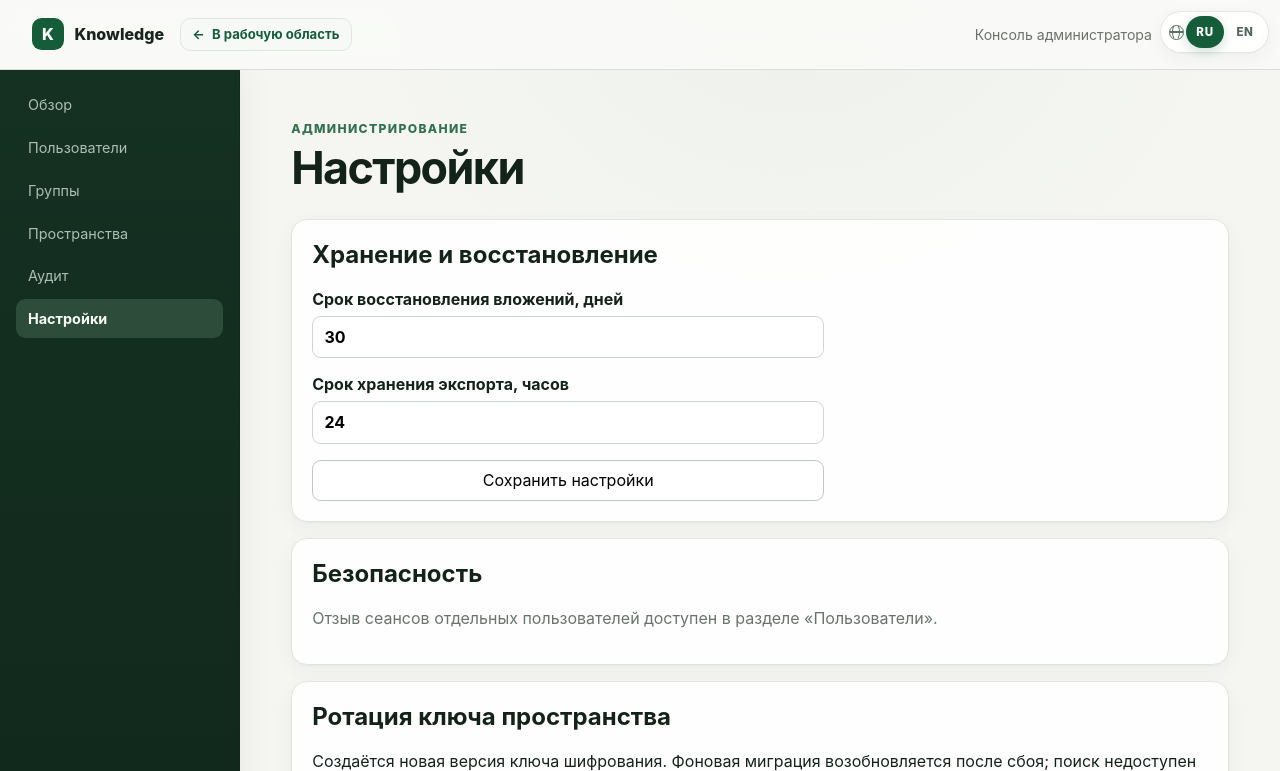
it: settings administration › validates limits, retains values after a safe Problem conflict, and sends typed settings
Replace the text in the number field labelled "Срок восстановления вложений, дней" with "0" at point(568, 337), box [312, 316, 824, 358]
Replace the text in the number field labelled "Срок хранения экспорта, часов" with "721" at point(568, 422), box [312, 401, 824, 444]
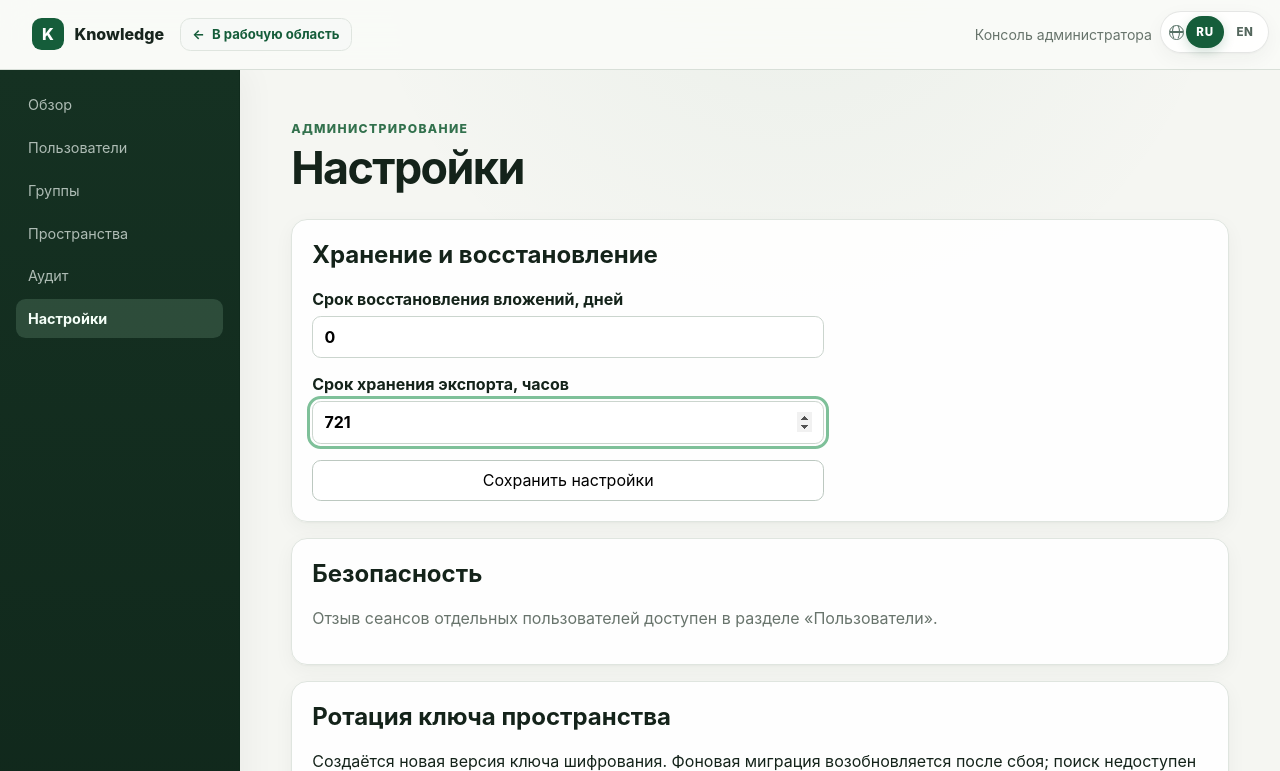
Click the button "Сохранить настройки".
click(568, 480)  # box [312, 460, 824, 501]
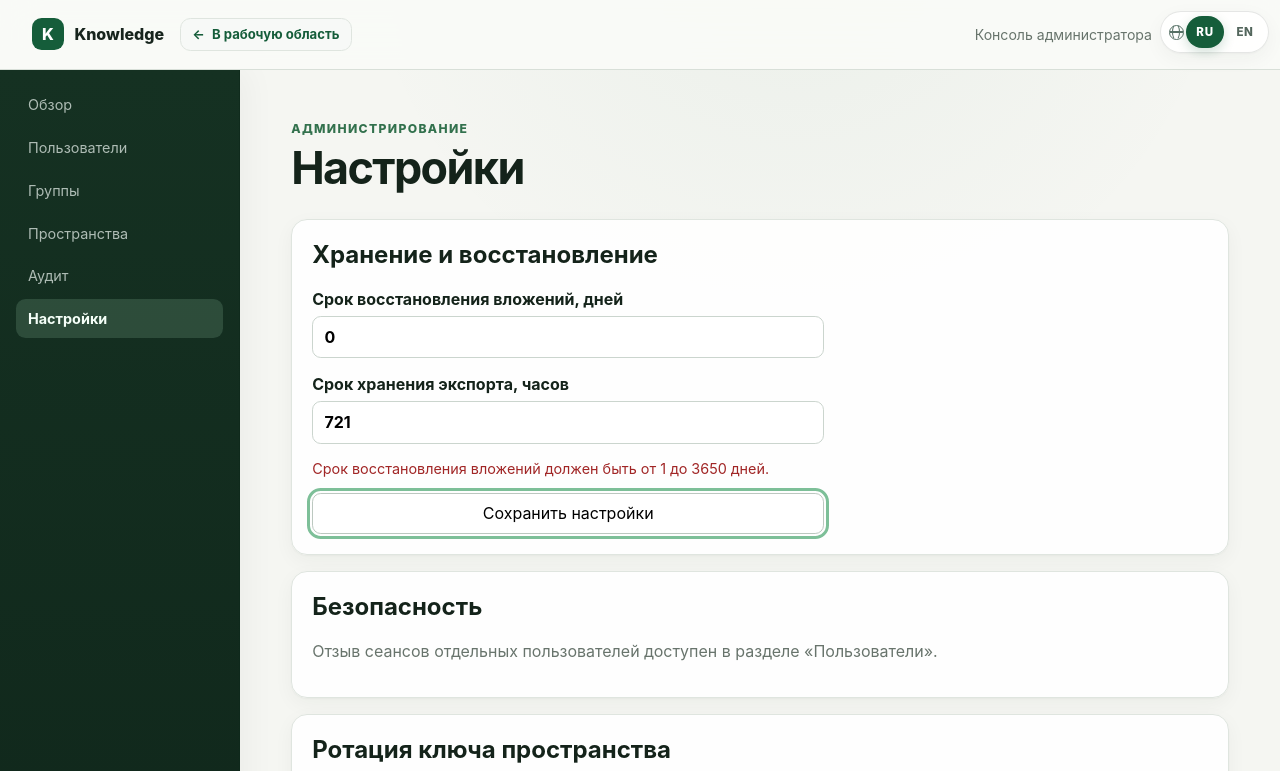
expect the message shows "от 1 до 3650": met, box [312, 460, 769, 477]
Click the button with aria-label "English".
click(1245, 32)  # box [1226, 16, 1264, 48]
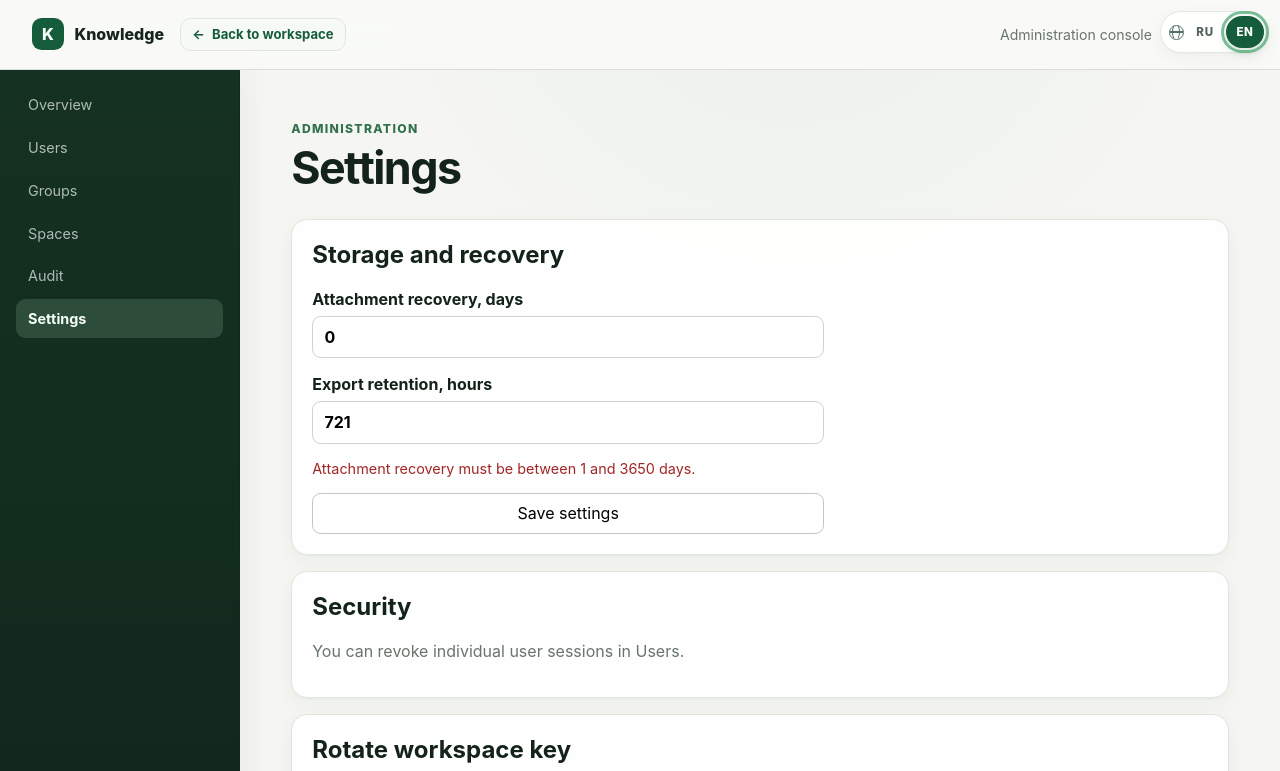
expect the message shows "between 1 and 3650": met, box [312, 460, 696, 477]
Click the button with aria-label "Русский".
click(1205, 32)  # box [1186, 16, 1224, 48]
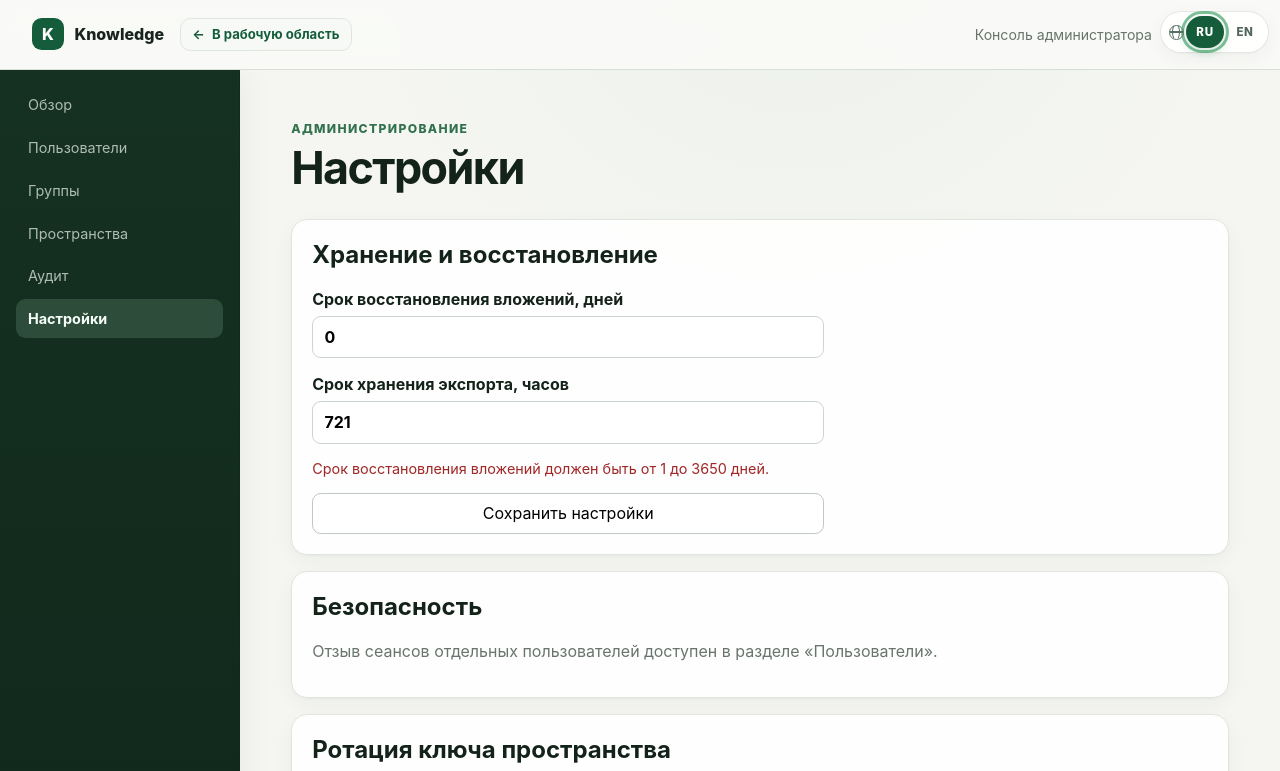
expect the message shows "от 1 до 3650": met, box [312, 460, 769, 477]
Replace the text in the number field named "Attachment recovery, days" with "45" at point(568, 337), box [312, 316, 824, 358]
Replace the text in the number field named "Export retention, hours" with "48" at point(568, 422), box [312, 401, 824, 444]
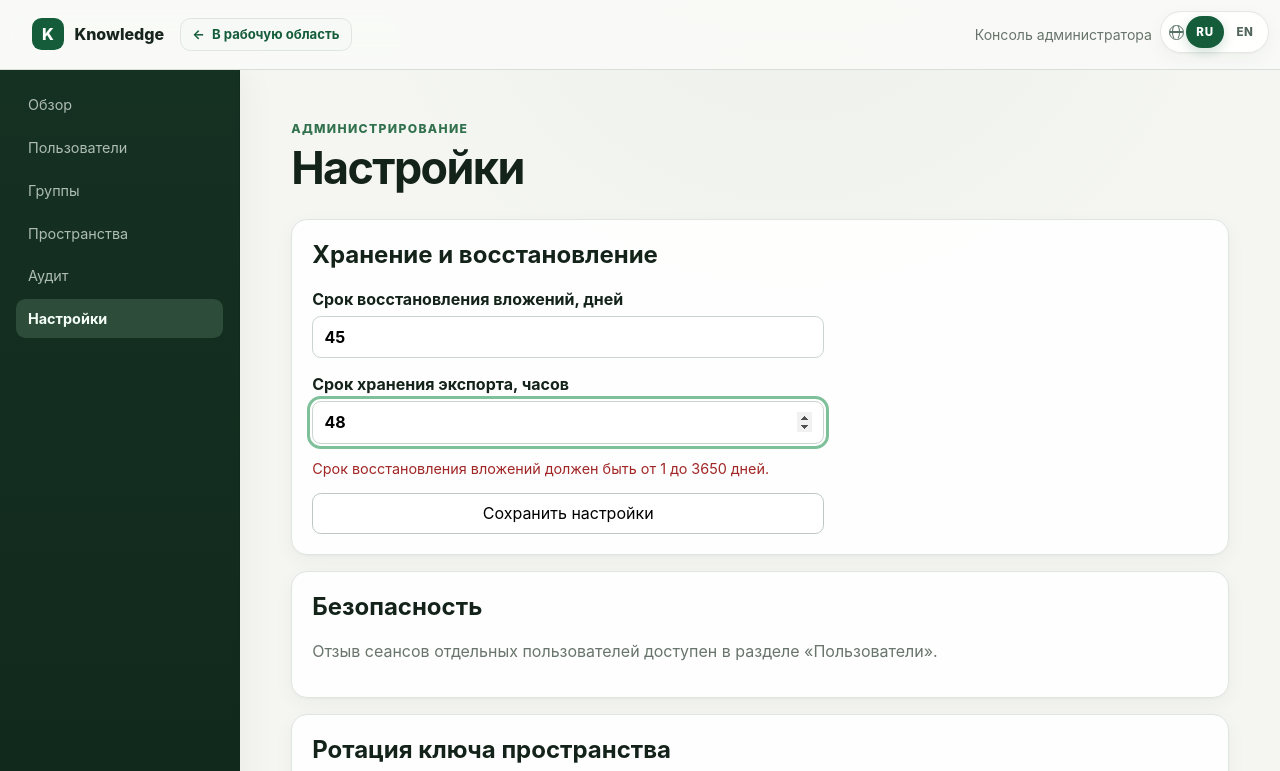
Click the button "Сохранить настройки".
click(568, 513)  # box [312, 493, 824, 534]
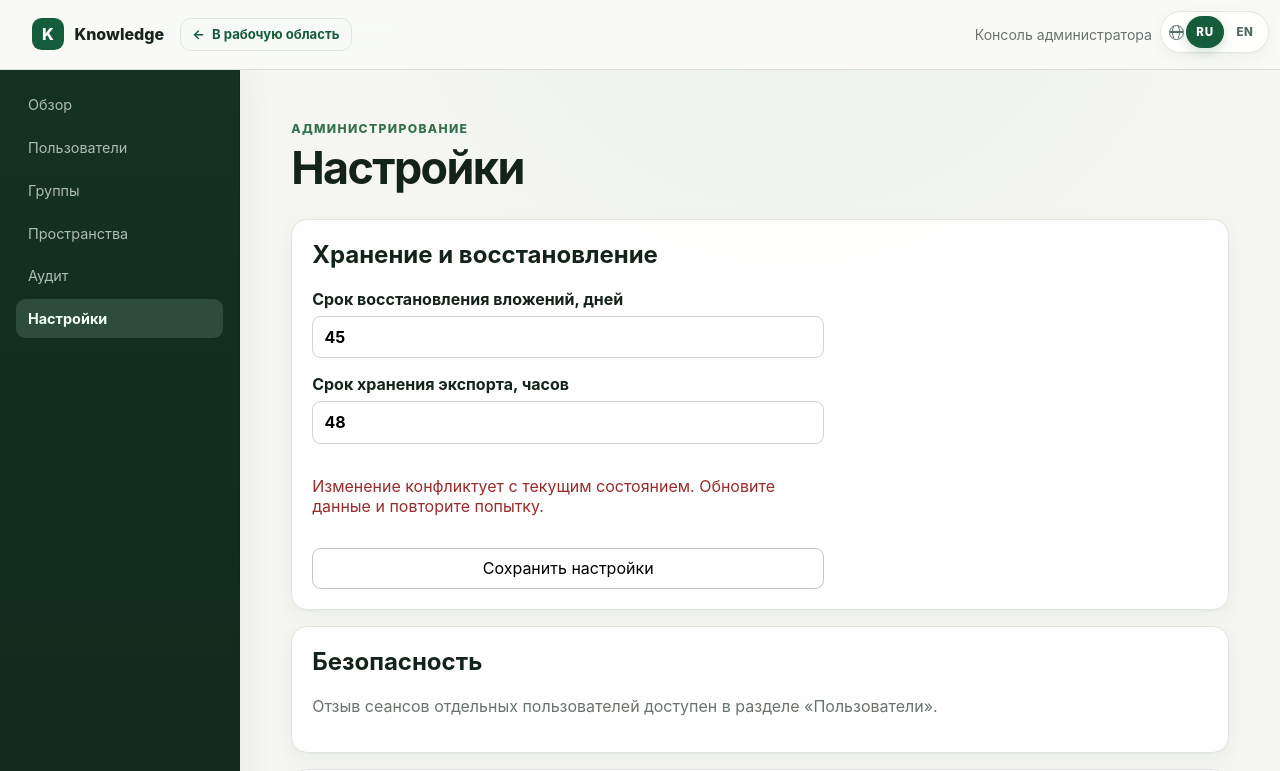
expect the message shows "конфликтует с текущим состоянием": met, box [312, 476, 775, 516]
